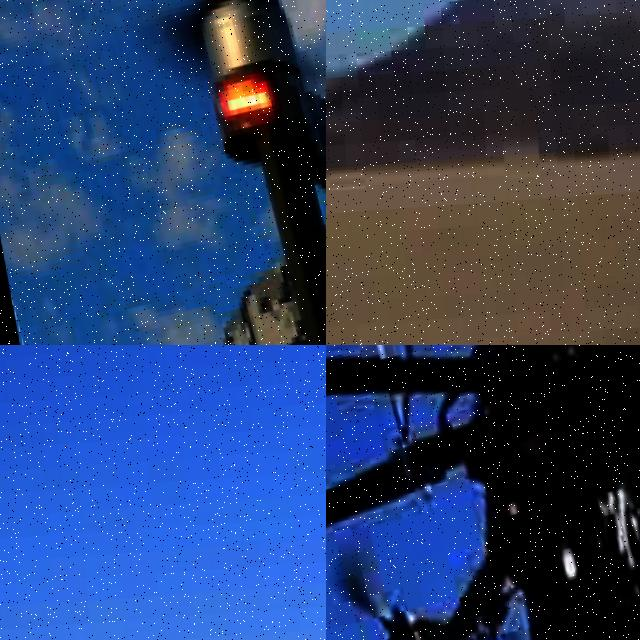drone: (0, 0, 326, 345), (326, 345, 640, 640)
